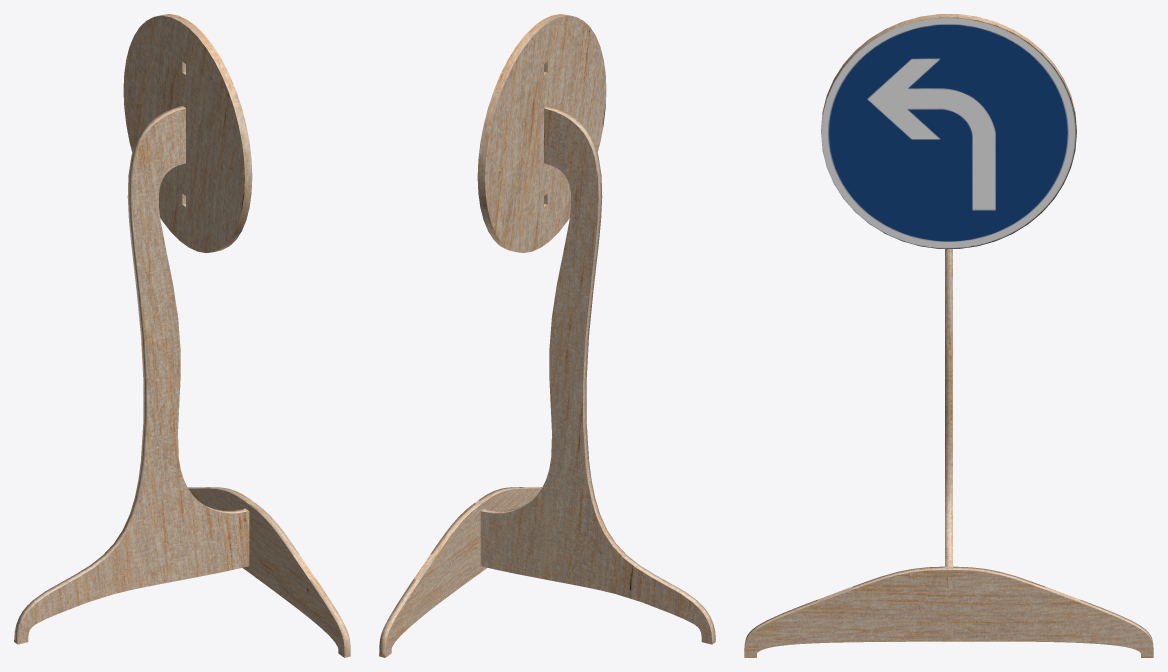
The model's file is Links_abbiegen.dae.
The picture shows the model from 3 angles, left to right: view 1: azimuth 30°, elevation 25°; view 2: azimuth 150°, elevation 25°; view 3: azimuth 270°, elevation 25°; orthographic projection. The views are drawn at different scales.
Visible parts, largest first — view 1: Body1, Body1_2, Body1_1; view 2: Body1, Body1_2, Body1_1; view 3: Body1_2, Body1_1, Body1.
Part boxes in pixels (x1=…): Body1: x1=14, y1=105, x2=249, y2=644; Body1_2: x1=123, y1=14, x2=252, y2=252; Body1_1: x1=187, y1=487, x2=350, y2=657; Body1: x1=480, y1=105, x2=715, y2=644; Body1_2: x1=477, y1=14, x2=606, y2=252; Body1_1: x1=379, y1=487, x2=542, y2=657; Body1_2: x1=821, y1=14, x2=1076, y2=248; Body1_1: x1=744, y1=566, x2=1153, y2=657; Body1: x1=945, y1=249, x2=952, y2=634.
Bounding box in the file's own units: 113 × 160 × 262.
Materials: 2 (2 with a texture image).
